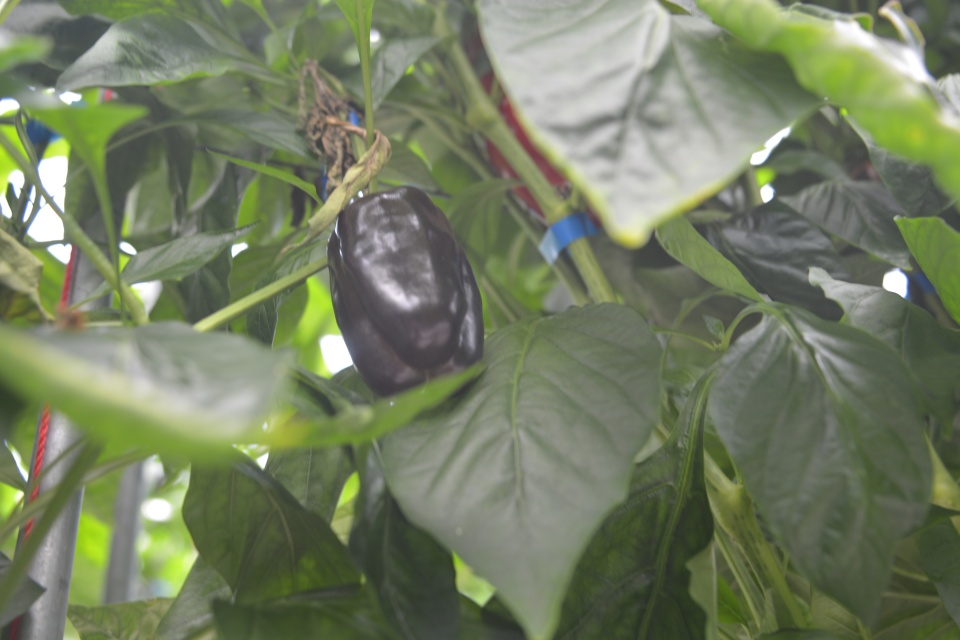fruit: (328, 184, 489, 416), (478, 68, 601, 223)
